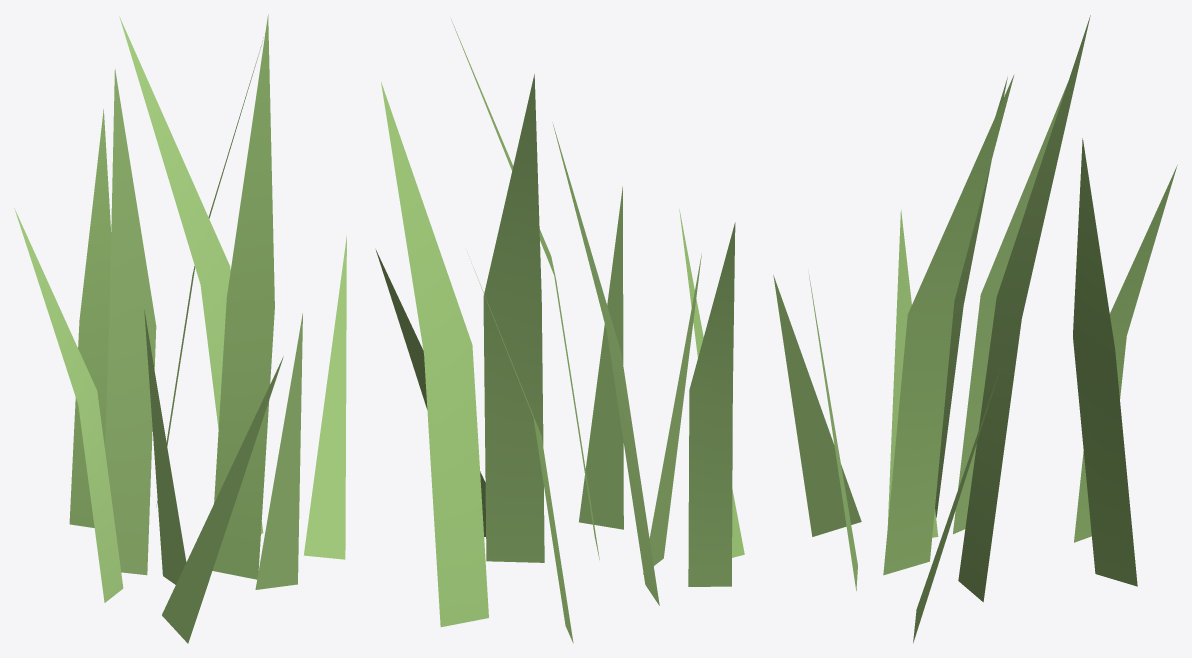
Rendered from Grass_b_TwoS_04.fbx.
3 views of the same model, side by side, from view 1: azimuth 30°, elevation 25°; view 2: azimuth 150°, elevation 25°; view 3: azimuth 270°, elevation 25° (orthographic). The views are drawn at different scales.
Visible parts, largest first — view 1: Grass_b_TwoS_04; view 2: Grass_b_TwoS_04; view 3: Grass_b_TwoS_04.
Part boxes in pixels (x1=…): Grass_b_TwoS_04: x1=14, y1=14, x2=346, y2=643; Grass_b_TwoS_04: x1=375, y1=17, x2=744, y2=643; Grass_b_TwoS_04: x1=773, y1=15, x2=1177, y2=643.
Size of the model in its own units: 31.88 by 47.82 by 31.57.
